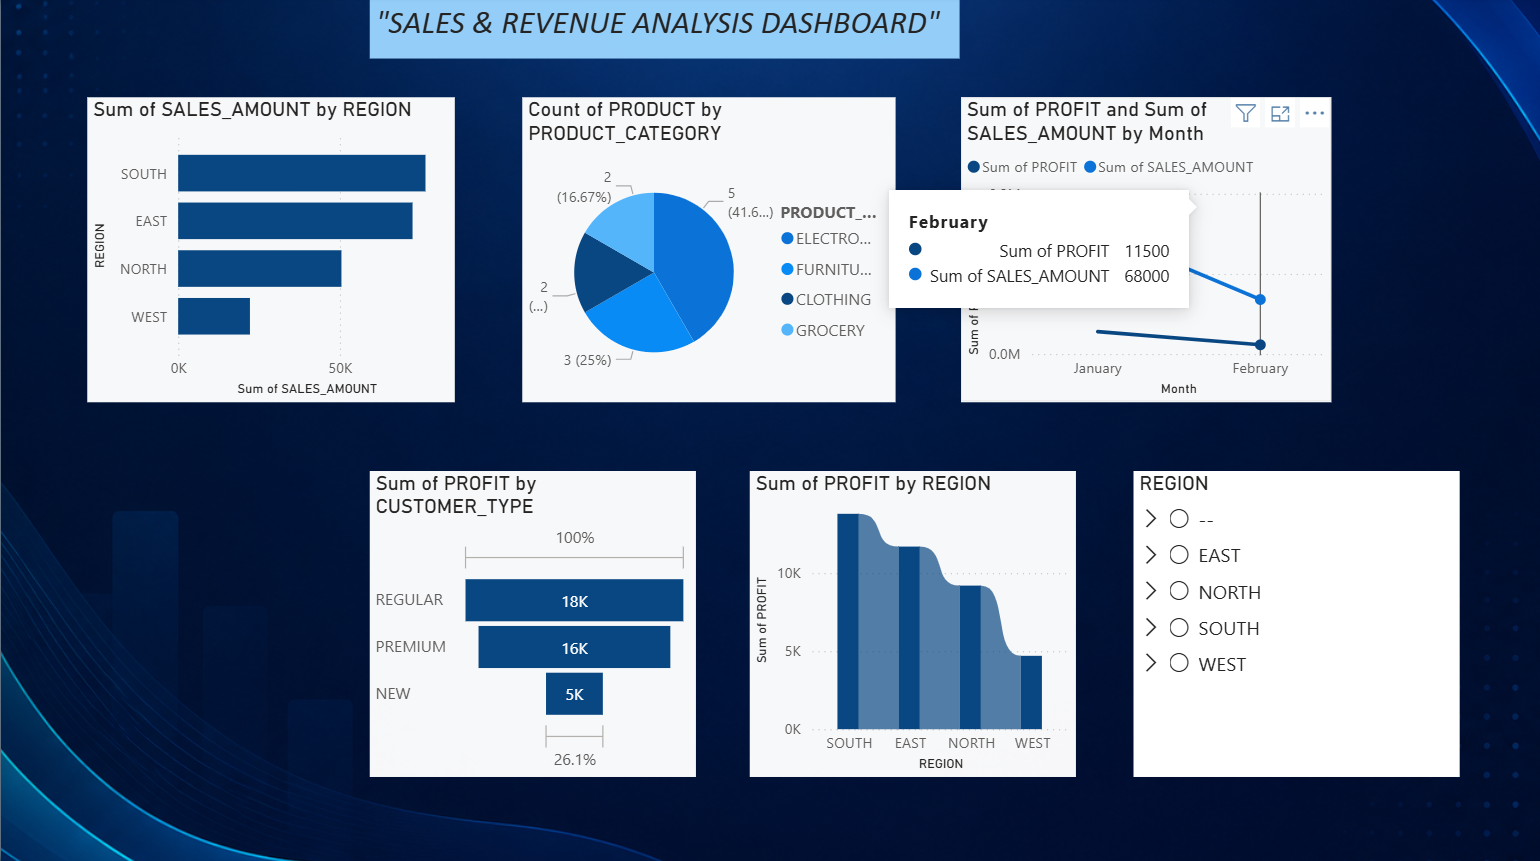

The dashboard page shown, as its layout file describes it:
{"tool":"powerbi","page":{"name":"Page 9","canvas":[1280,720],"ordinal":8},"visuals":[{"type":"clusteredBarChart","fields":{"Category":["Table (8).REGION"],"Y":["Sum(Table (8).SALES_AMOUNT)"]},"box":[72.1,83.7,305.8,253.5],"z":0},{"type":"pieChart","fields":{"Category":["Table (8).PRODUCT_CATEGORY"],"Y":["CountNonNull(Table (8).PRODUCT)"]},"box":[433.7,83.7,310.5,253.5],"z":1},{"type":"lineChart","fields":{"Category":["Table (8).DATE.Variation.Date Hierarchy.Month"],"Y":["Sum(Table (8).PROFIT)","Sum(Table (8).SALES_AMOUNT)"]},"box":[797.7,83.7,308.1,253.5],"z":2},{"type":"funnel","fields":{"Category":["Table (8).CUSTOMER_TYPE"],"Y":["Sum(Table (8).PROFIT)"]},"box":[307,395.3,270.9,254.7],"z":3},{"type":"ribbonChart","fields":{"Category":["Table (8).REGION"],"Y":["Sum(Table (8).PROFIT)"]},"box":[622.1,395.3,270.9,254.7],"z":4},{"type":"listSlicer","fields":{"Values":["Table (8).REGION","Table (8).PRODUCT_CATEGORY","Table (8).PAYMENT_MODE","Table (8).CUSTOMER_TYPE","Table (8).DATE.Variation.Date Hierarchy.Year","Table (8).DATE.Variation.Date Hierarchy.Quarter","Table (8).DATE.Variation.Date Hierarchy.Month","Table (8).DATE.Variation.Date Hierarchy.Day"]},"box":[941.6,394.9,271.2,254.6],"z":5},{"type":"textbox","box":[307,0,490.7,52.3],"z":6}]}

Visuals, with their boxes in screenshot pixels (x1, y1, x2, y2), scaled from the page's 1280x720 canvas onto the 1540x861 screenshot:
clusteredBarChart - Table (8).REGION x Sum(Table (8).SALES_AMOUNT): locate(87, 100, 455, 403)
pieChart - Table (8).PRODUCT_CATEGORY x CountNonNull(Table (8).PRODUCT): locate(522, 100, 895, 403)
lineChart - Table (8).DATE.Variation.Date Hierarchy.Month x Sum(Table (8).PROFIT): locate(960, 100, 1330, 403)
funnel - Table (8).CUSTOMER_TYPE x Sum(Table (8).PROFIT): locate(369, 473, 695, 777)
ribbonChart - Table (8).REGION x Sum(Table (8).PROFIT): locate(748, 473, 1074, 777)
listSlicer - Table (8).REGION x Table (8).PRODUCT_CATEGORY: locate(1133, 472, 1459, 777)
textbox: locate(369, 0, 960, 63)
